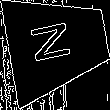N_E: (32, 20, 83, 69)
